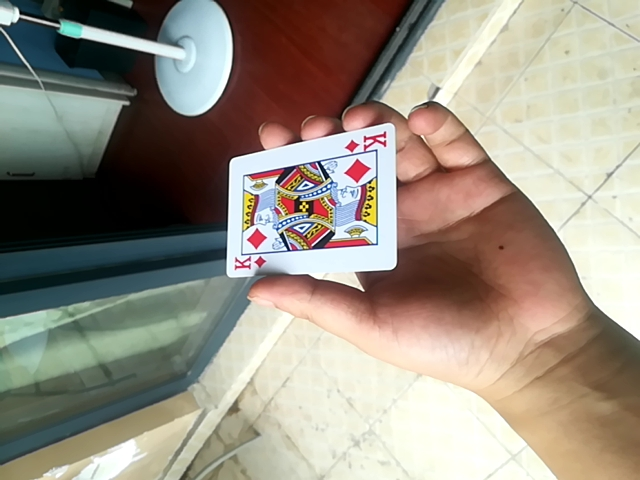fk k: (224, 121, 393, 281)
